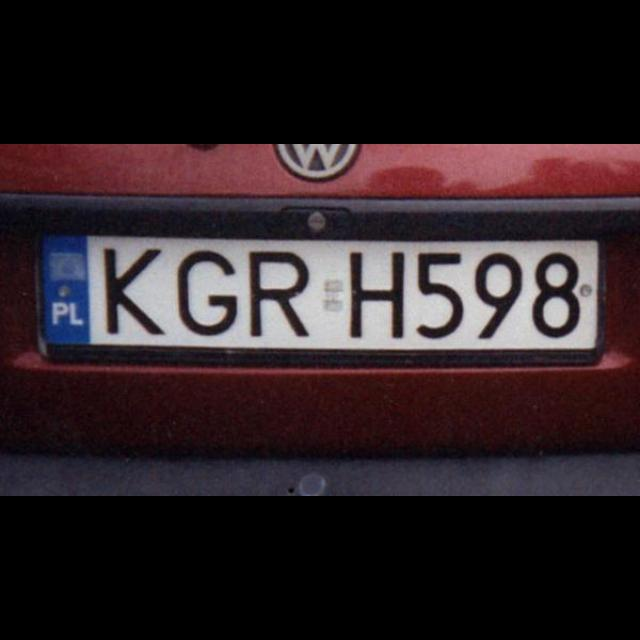pl_license_plate: (44, 234, 598, 348)
